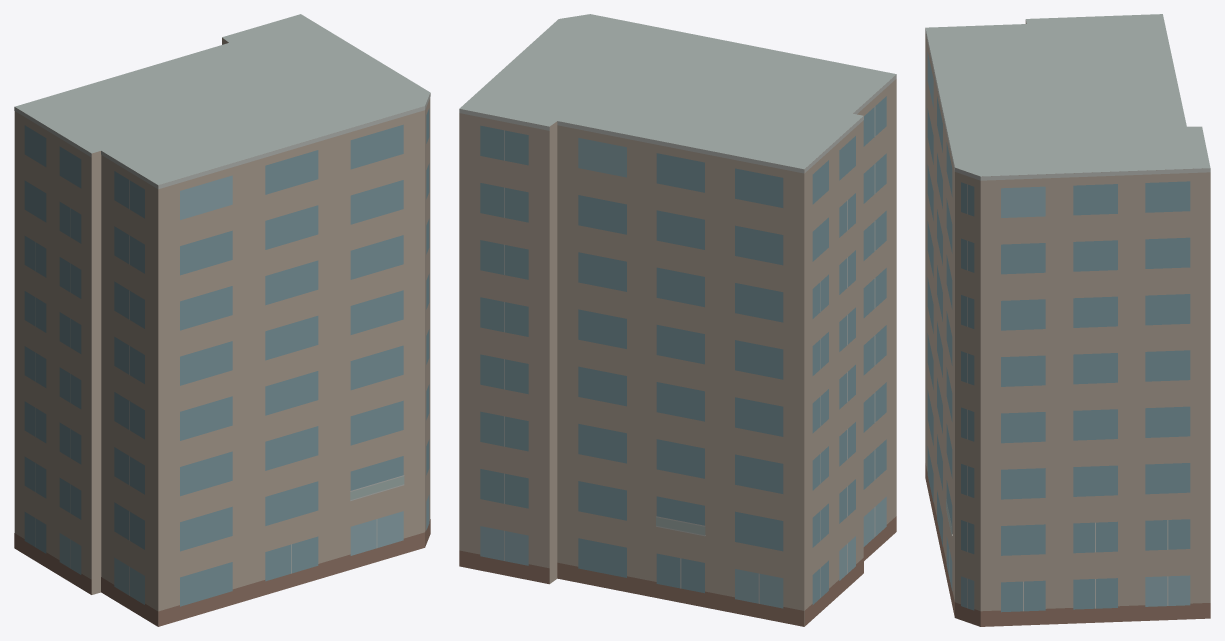
File: survey-upis-32564037.glb
The picture shows the model from 3 angles, left to right: view 1: azimuth 30°, elevation 25°; view 2: azimuth 150°, elevation 25°; view 3: azimuth 270°, elevation 25°; orthographic projection. The views are drawn at different scales.
Parts seen in each view (by area): view 1: survey-upis-32564037.tmp; view 2: survey-upis-32564037.tmp; view 3: survey-upis-32564037.tmp.
Part boxes in pixels (left/top/right/bottom): survey-upis-32564037.tmp: left=14, top=14, right=430, bottom=626; survey-upis-32564037.tmp: left=459, top=14, right=896, bottom=626; survey-upis-32564037.tmp: left=925, top=14, right=1210, bottom=626.
Size of the model in its own units: 20.24 by 26.15 by 15.01.
